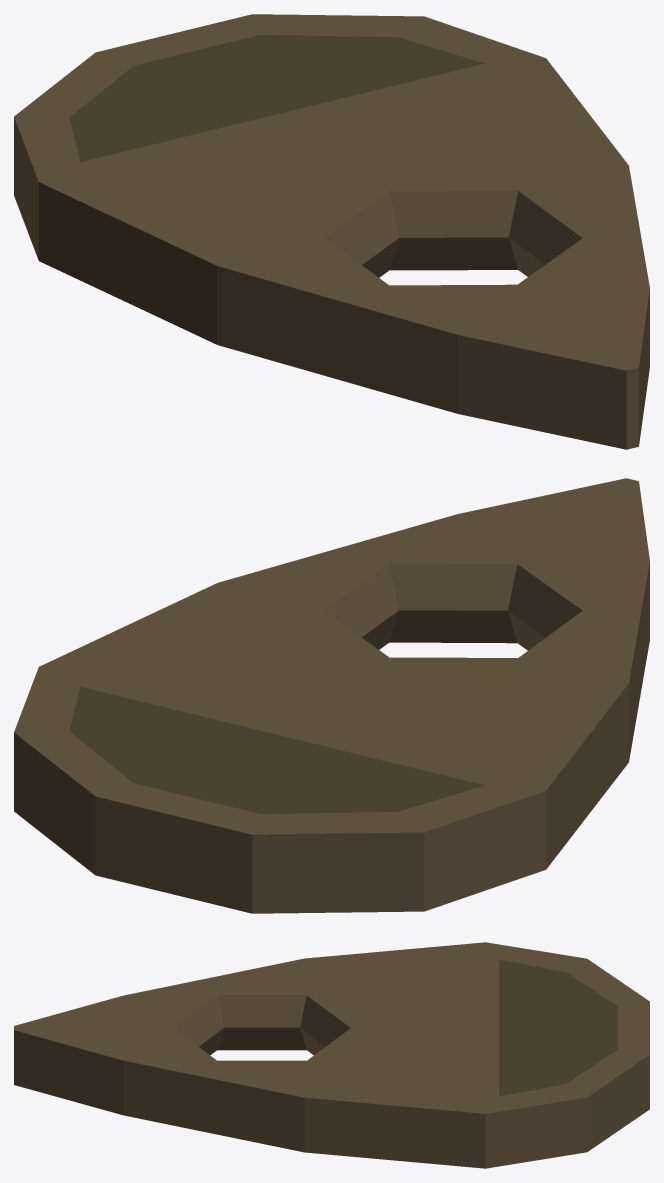
File: SM_Prop_Spirit_Board_Indicator_01.glb
3 views of the same model, one above another, from view 1: azimuth 30°, elevation 25°; view 2: azimuth 150°, elevation 25°; view 3: azimuth 270°, elevation 25° (orthographic). The views are drawn at different scales.
Parts seen in each view (by area): view 1: SM_Prop_Spirit_Board_Indicator_01; view 2: SM_Prop_Spirit_Board_Indicator_01; view 3: SM_Prop_Spirit_Board_Indicator_01.
Part boxes in pixels (bbox=[...]): SM_Prop_Spirit_Board_Indicator_01: bbox=[14, 14, 649, 449]; SM_Prop_Spirit_Board_Indicator_01: bbox=[14, 478, 649, 913]; SM_Prop_Spirit_Board_Indicator_01: bbox=[14, 942, 649, 1168].
Size of the model in its own units: 10.34 by 1.54 by 16.19.
1 material, 1 textured.
